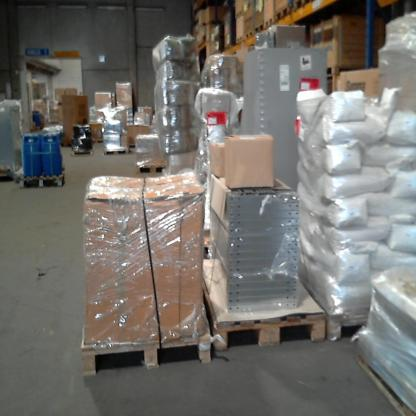pallet: (198, 257, 328, 347), (80, 298, 209, 380), (355, 338, 416, 415), (307, 277, 374, 344), (19, 168, 67, 188), (324, 63, 366, 79), (136, 164, 167, 175), (258, 16, 276, 33), (102, 147, 129, 157), (273, 5, 291, 20), (0, 166, 16, 182), (70, 147, 94, 156), (290, 1, 311, 11), (252, 23, 264, 36), (234, 36, 245, 45), (245, 30, 253, 42), (234, 11, 244, 20), (92, 138, 105, 144), (60, 143, 73, 149), (129, 144, 136, 149)
